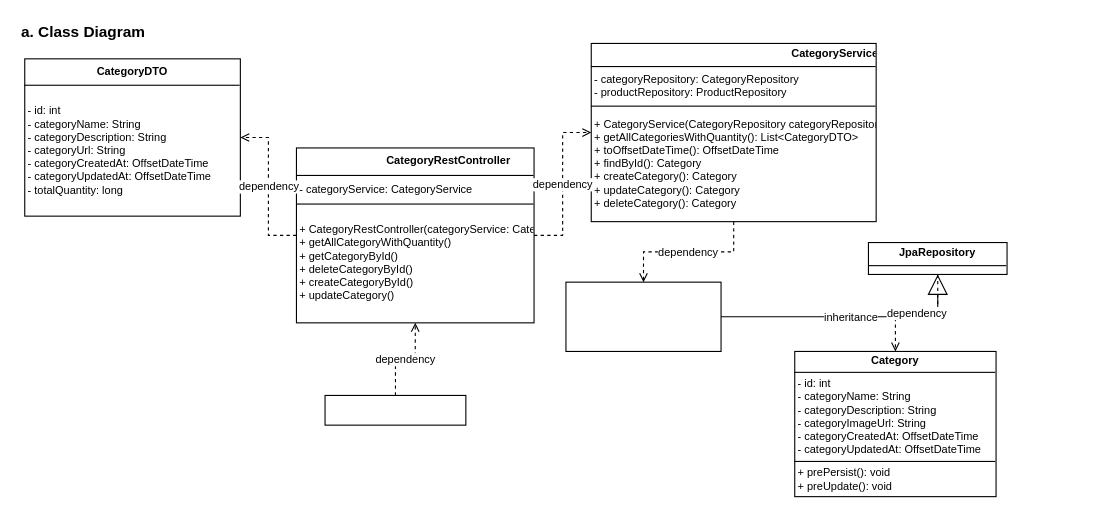
Image size: 1093x516. Some labels were removed from this diagram. The box of each missing label's shape, as (x1, y1, x2, y2) in pixels:
<<Interface>> CategoryRepository + findAllCategoryWithQuantity(): List<Object[]>: (565, 281, 721, 351)
CategoryDashboard: (324, 394, 466, 425)
